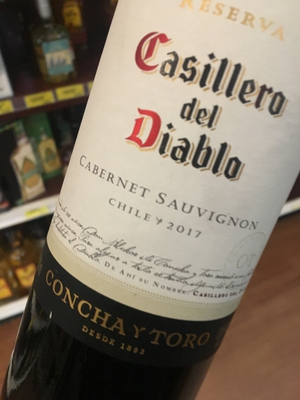casillero del diablo cabernet sauvignon: (37, 4, 300, 393)
